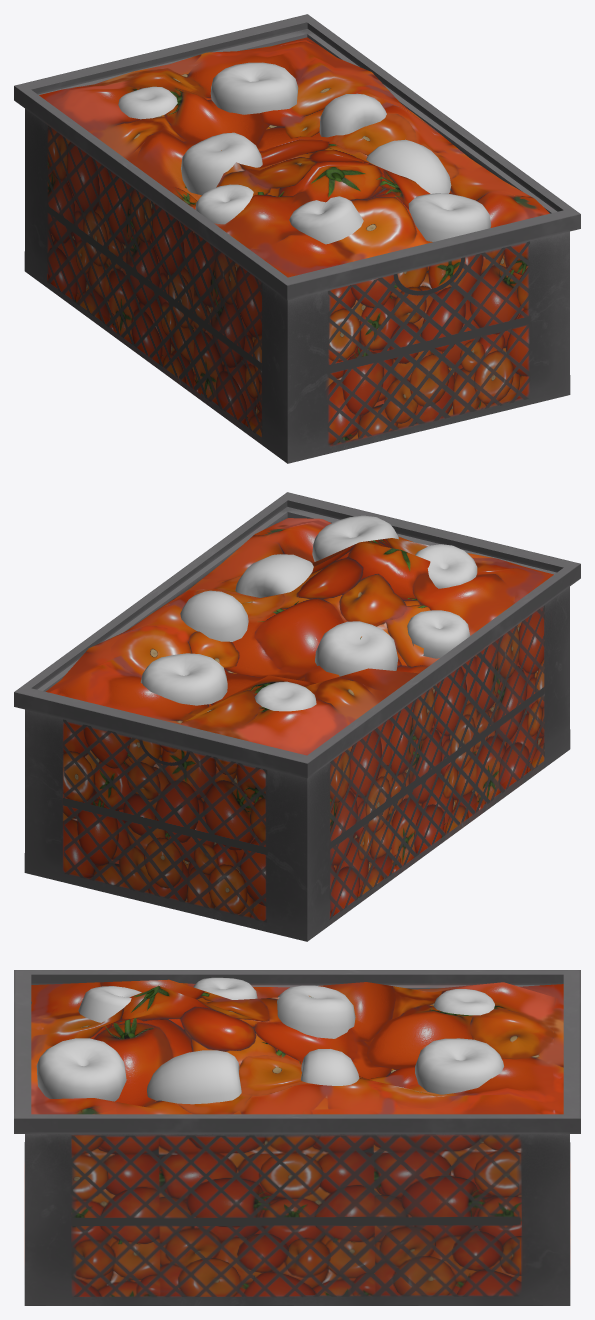
The model's file is Caja de tomates.fbx.
3 views of the same model, one above another, from view 1: azimuth 30°, elevation 25°; view 2: azimuth 150°, elevation 25°; view 3: azimuth 270°, elevation 25° (orthographic). The views are drawn at different scales.
Visible parts, largest first — view 1: Caja de tomates, Plano tomates, tomate 5, tomate 3, Cube.006, tomates.001, tomate 2, tomate 1, tomate 5.001, tomate 4; view 2: Caja de tomates, Plano tomates, tomate 5, tomate 3, tomate 1, tomates.001, tomate 5.001, Cube.006, tomate 2, tomate 4; view 3: Caja de tomates, Plano tomates, Cube.006, tomates.001, tomate 5, tomate 3, tomate 1, tomate 2, tomate 4, tomate 5.001.
Boxes of the visible parts, box(x1,y1,x2,y2) form: Caja de tomates: box(14, 14, 580, 463); Plano tomates: box(39, 37, 549, 277); tomate 5: box(210, 62, 298, 114); tomate 3: box(181, 132, 262, 195); Cube.006: box(408, 193, 490, 241); tomates.001: box(366, 139, 451, 193); tomate 2: box(289, 196, 363, 244); tomate 1: box(319, 93, 386, 137); tomate 5.001: box(195, 184, 253, 224); tomate 4: box(118, 86, 177, 119); Caja de tomates: box(14, 492, 580, 941); Plano tomates: box(46, 518, 553, 755); tomate 5: box(140, 653, 227, 705); tomate 3: box(315, 621, 398, 676); tomate 1: box(180, 590, 248, 641); tomates.001: box(235, 554, 313, 597); tomate 5.001: box(407, 610, 470, 658); Cube.006: box(312, 515, 398, 561); tomate 2: box(415, 544, 477, 588); tomate 4: box(254, 681, 316, 711); Caja de tomates: box(14, 970, 580, 1305); Plano tomates: box(31, 979, 563, 1114); Cube.006: box(36, 1038, 126, 1101); tomates.001: box(147, 1050, 241, 1104); tomate 5: box(415, 1038, 503, 1094); tomate 3: box(277, 985, 355, 1038); tomate 1: box(301, 1049, 359, 1085); tomate 2: box(78, 986, 141, 1022); tomate 4: box(433, 989, 494, 1015); tomate 5.001: box(193, 977, 257, 999).
Bounding box in the file's own units: 46.9 × 33.79 × 75.6.
